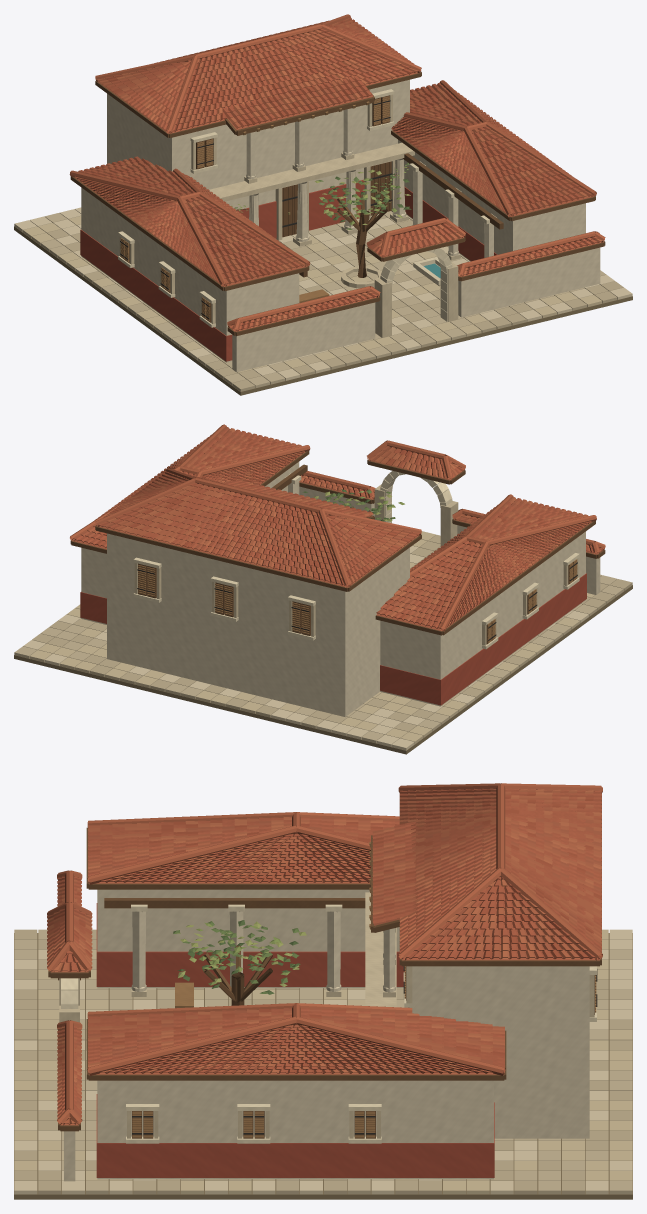
The model's file is villa_rustica.glb.
3 views of the same model, one above another, from view 1: azimuth 30°, elevation 25°; view 2: azimuth 150°, elevation 25°; view 3: azimuth 270°, elevation 25° (orthographic). The views are drawn at different scales.
Visible parts, largest first — view 1: Limewash.003, Tile_0.001, Limewash.001, Tile_1.001, Oak.001, Tile_5.001, Tile_2.001, Pompeian_red.001, Paving_1.001, Paving_2.001, Paving_3.001, Paving_0.001 (+13 smaller); view 2: Limewash.001, Tile_0.001, Tile_1.001, Limewash.003, Tile_5.001, Paving_0.001, Oak.001, Tile_2.001, Pompeian_red.003, Paving_1.001, Paving_2.001, Paving_3.001 (+12 smaller); view 3: Limewash.001, Tile_0.001, Tile_1.001, Limewash.003, Pompeian_red.001, Tile_5.001, Paving_1.001, Pompeian_red.003, Oak.001, Paving_0.001, Paving_2.001, Tile_2.001 (+16 smaller).
Part boxes in pixels (left/top/right/bottom): Limewash.003: left=81, top=79, right=600, bottom=372; Tile_0.001: left=78, top=17, right=598, bottom=330; Limewash.001: left=107, top=80, right=599, bottom=371; Tile_1.001: left=69, top=14, right=605, bottom=331; Oak.001: left=70, top=71, right=605, bottom=336; Tile_5.001: left=75, top=20, right=604, bottom=326; Tile_2.001: left=75, top=24, right=603, bottom=331; Pompeian_red.001: left=80, top=180, right=495, bottom=360; Paving_1.001: left=47, top=214, right=623, bottom=391; Paving_2.001: left=14, top=207, right=632, bottom=380; Paving_3.001: left=40, top=211, right=606, bottom=387; Paving_0.001: left=23, top=216, right=602, bottom=373; Limewash.001: left=82, top=462, right=598, bottom=716; Tile_0.001: left=71, top=429, right=599, bottom=628; Tile_1.001: left=70, top=424, right=605, bottom=631; Limewash.003: left=81, top=462, right=600, bottom=716; Tile_5.001: left=92, top=434, right=588, bottom=626; Paving_0.001: left=29, top=531, right=595, bottom=743; Oak.001: left=70, top=451, right=605, bottom=643; Tile_2.001: left=72, top=427, right=602, bottom=631; Pompeian_red.003: left=80, top=573, right=586, bottom=705; Paving_1.001: left=32, top=535, right=632, bottom=731; Paving_2.001: left=23, top=545, right=588, bottom=750; Paving_3.001: left=14, top=547, right=623, bottom=743; Limewash.001: left=65, top=889, right=588, bottom=1180; Tile_0.001: left=47, top=788, right=601, bottom=1117; Tile_1.001: left=47, top=783, right=602, bottom=1125; Limewash.003: left=64, top=889, right=589, bottom=1181; Pompeian_red.001: left=97, top=951, right=493, bottom=1177; Tile_5.001: left=47, top=789, right=601, bottom=1124; Paving_1.001: left=14, top=929, right=632, bottom=1194; Pompeian_red.003: left=96, top=903, right=494, bottom=1177; Oak.001: left=48, top=796, right=601, bottom=1138; Paving_0.001: left=14, top=929, right=632, bottom=1194; Paving_2.001: left=14, top=929, right=632, bottom=1194; Tile_2.001: left=47, top=789, right=601, bottom=1125.
Bounding box in the file's own units: 17.8 × 7.72 × 17.8.
Materials: 28 (8 with a texture image).
